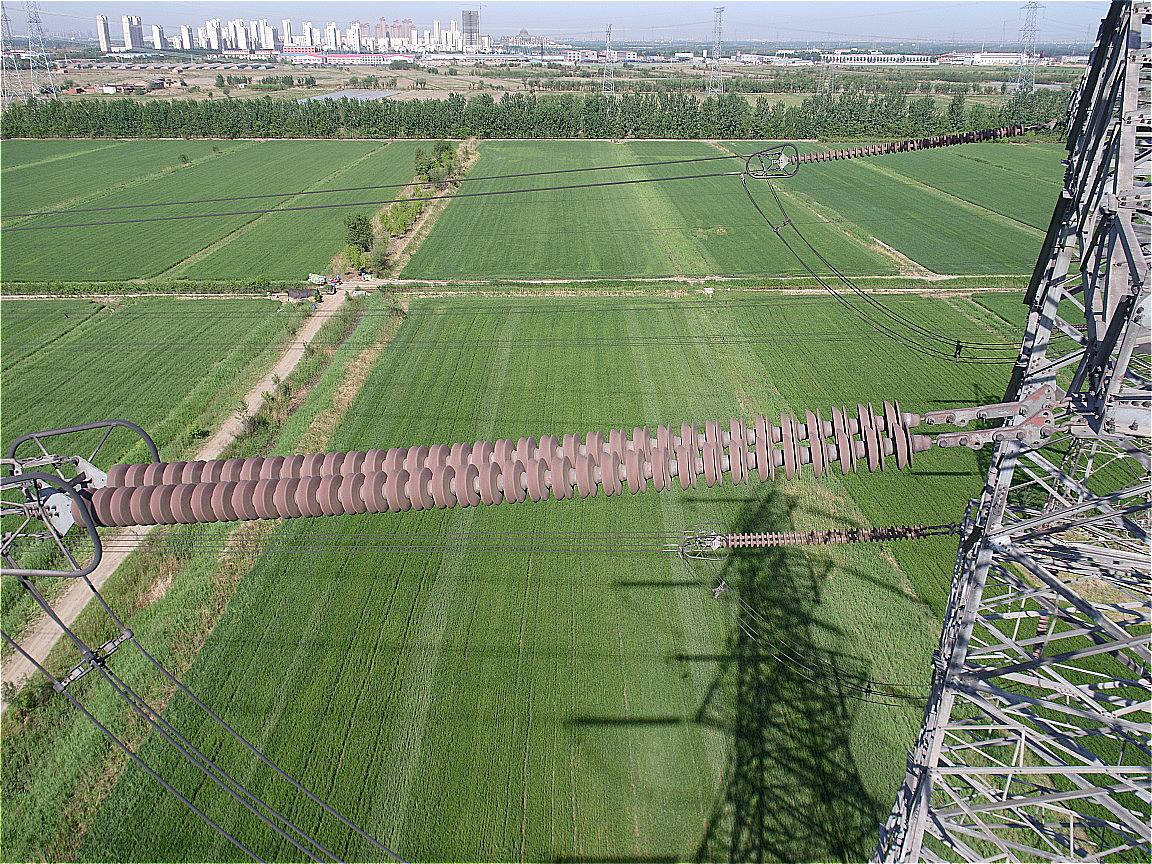insultor2: (70, 403, 935, 545)
